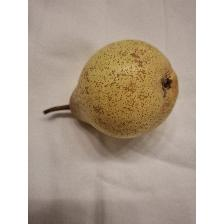Birne: (42, 36, 180, 142)
